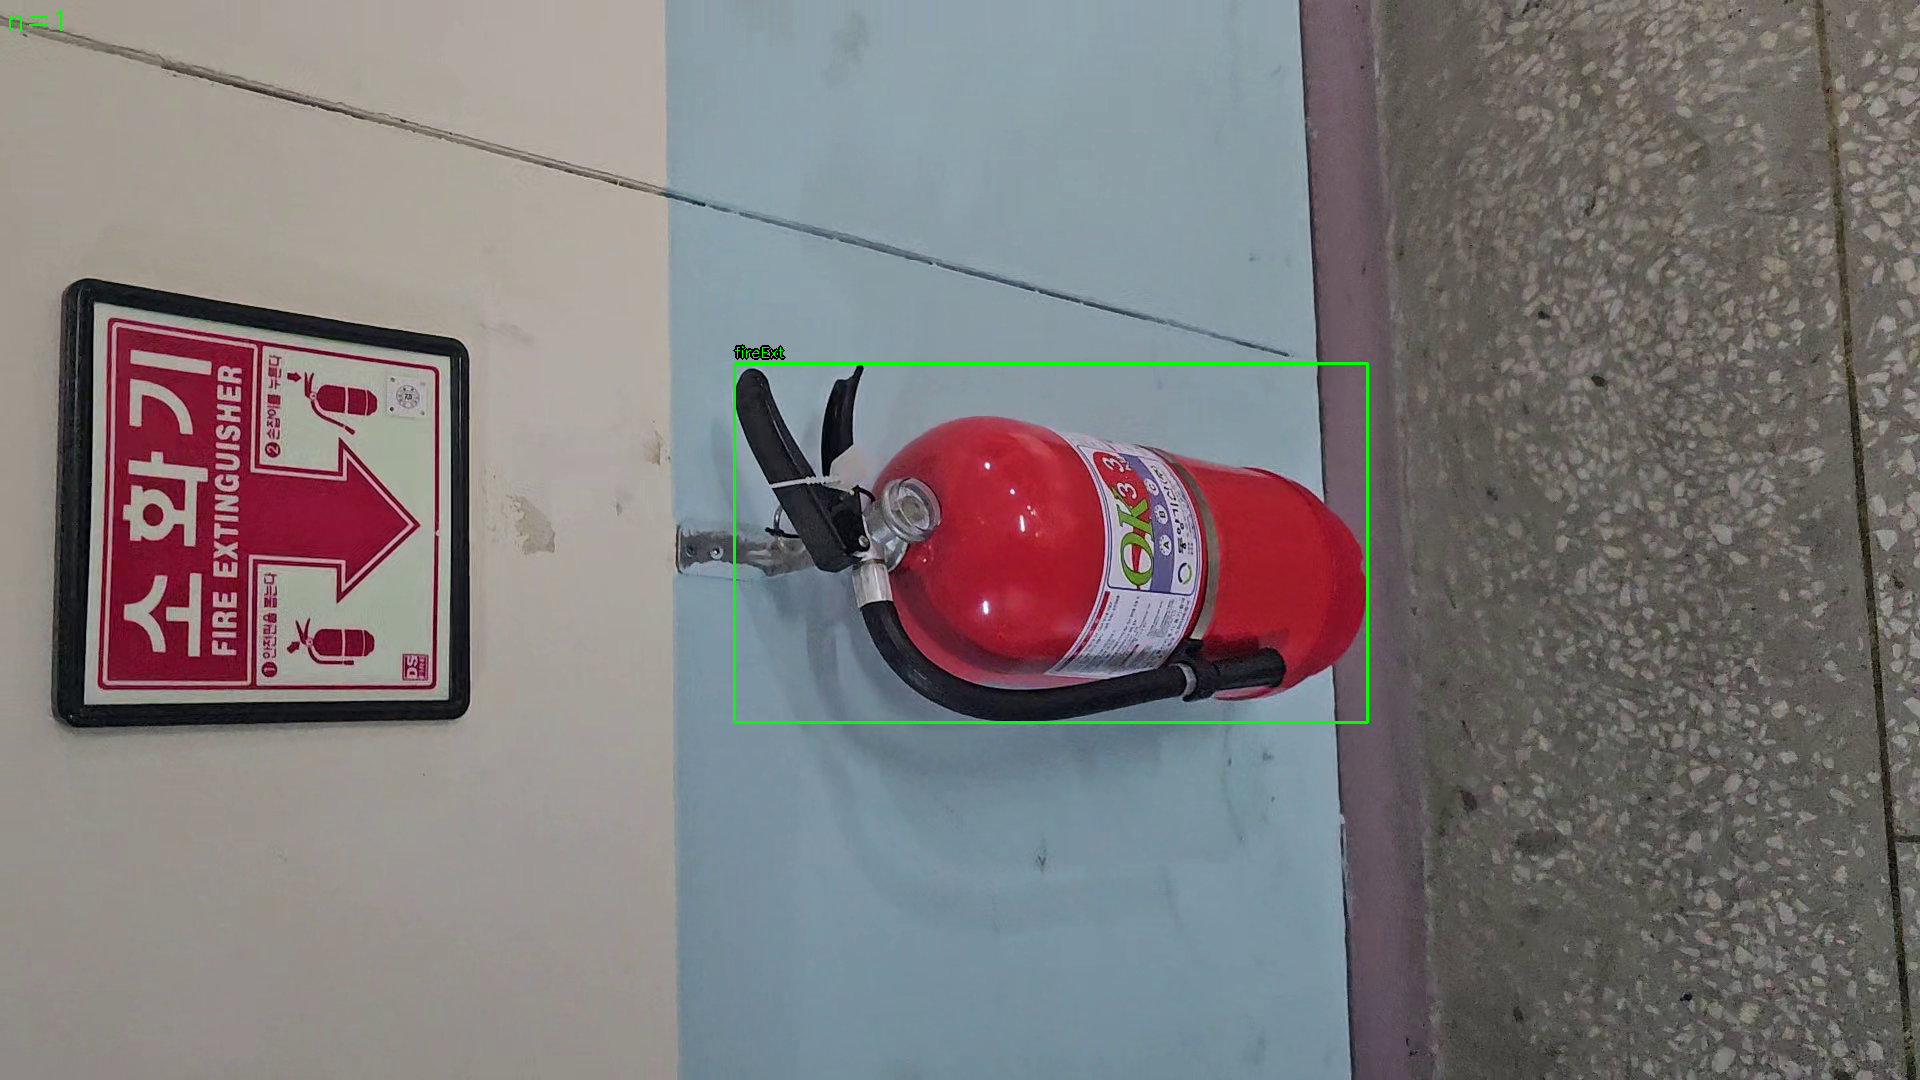lane: (735, 363, 1367, 723)
